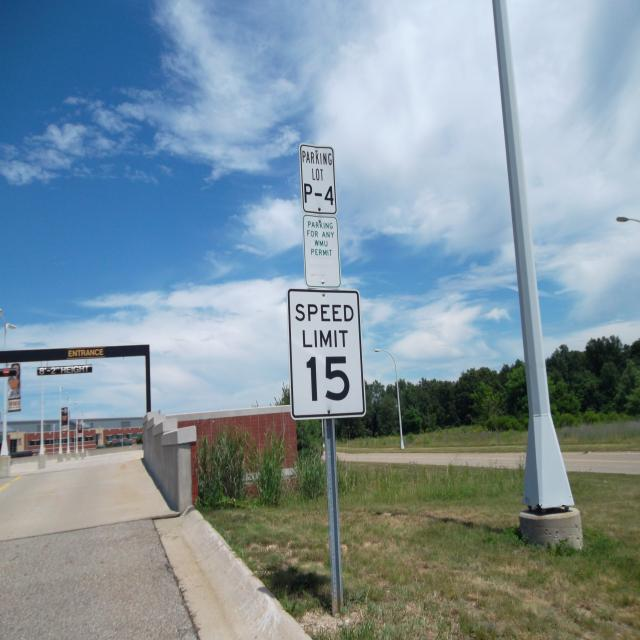regulatory: (284, 288, 369, 417), (298, 214, 348, 288), (297, 143, 339, 215)
